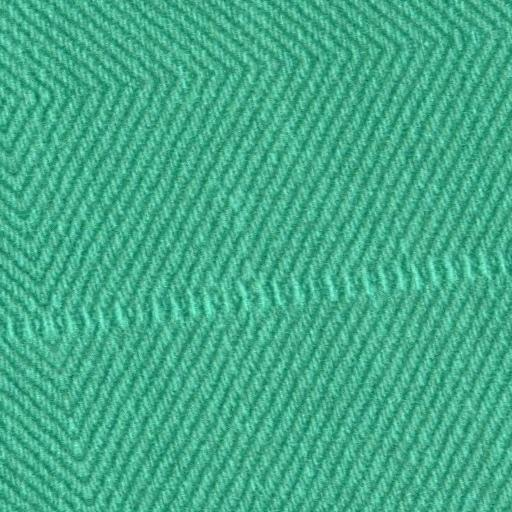slub: (1, 248, 511, 354)
